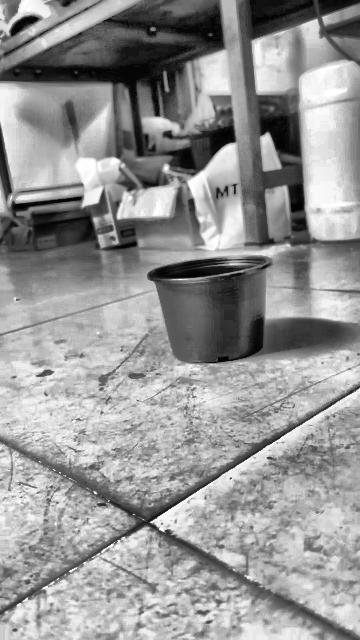pot: (148, 255, 273, 363)
